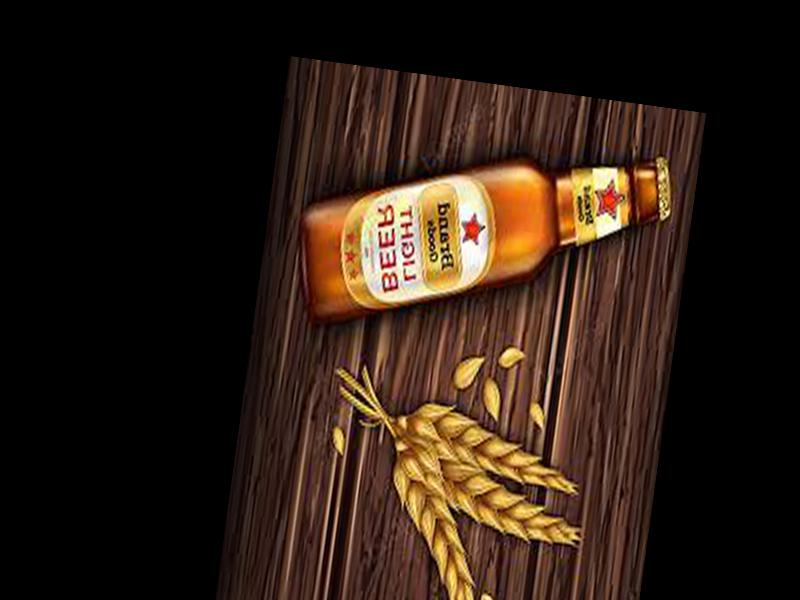Beer: (289, 107, 679, 366)
